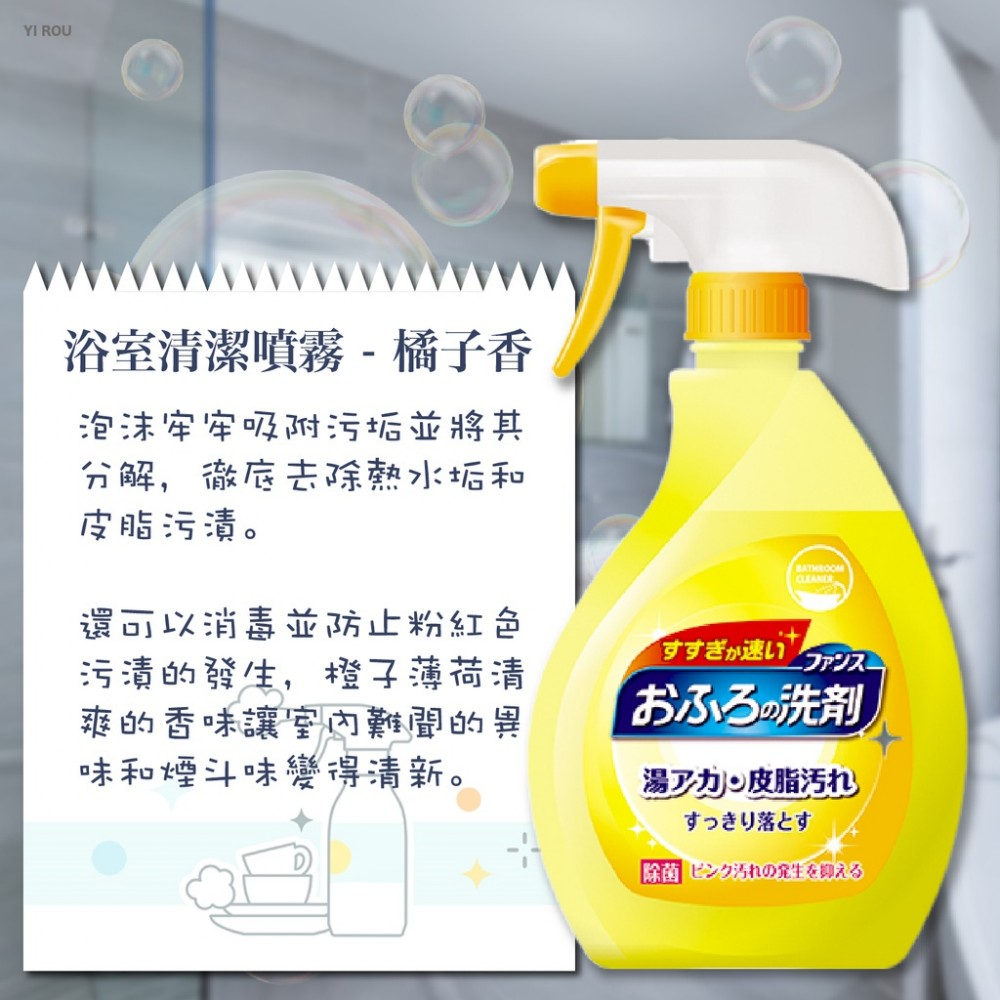cleaner: (495, 134, 975, 985)
